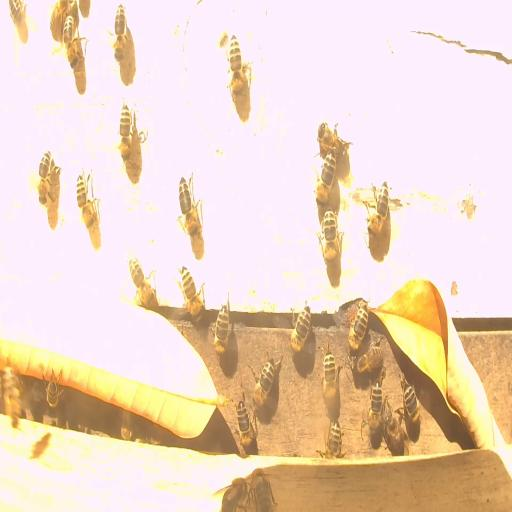bee: (128, 258, 158, 312), (181, 262, 206, 326), (364, 184, 392, 240), (318, 121, 350, 168), (2, 362, 23, 430), (313, 148, 337, 207), (178, 174, 199, 239), (354, 343, 386, 383), (345, 299, 370, 350), (227, 36, 247, 98), (75, 171, 96, 229), (63, 13, 83, 72), (110, 4, 130, 63), (322, 209, 341, 269), (253, 357, 276, 406), (401, 376, 421, 431), (252, 466, 275, 512), (368, 374, 384, 440), (119, 100, 135, 165), (323, 351, 340, 412), (290, 302, 311, 351), (236, 398, 254, 450), (220, 476, 246, 512), (384, 408, 405, 452), (37, 150, 53, 207), (214, 303, 229, 361), (42, 370, 62, 411), (49, 0, 70, 39), (324, 420, 342, 458), (7, 0, 25, 26), (121, 426, 134, 439)
